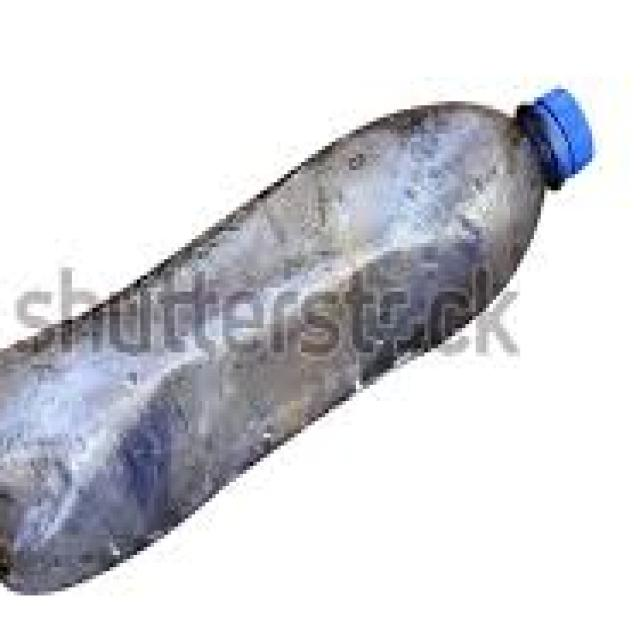organic: (0, 35, 600, 607)
